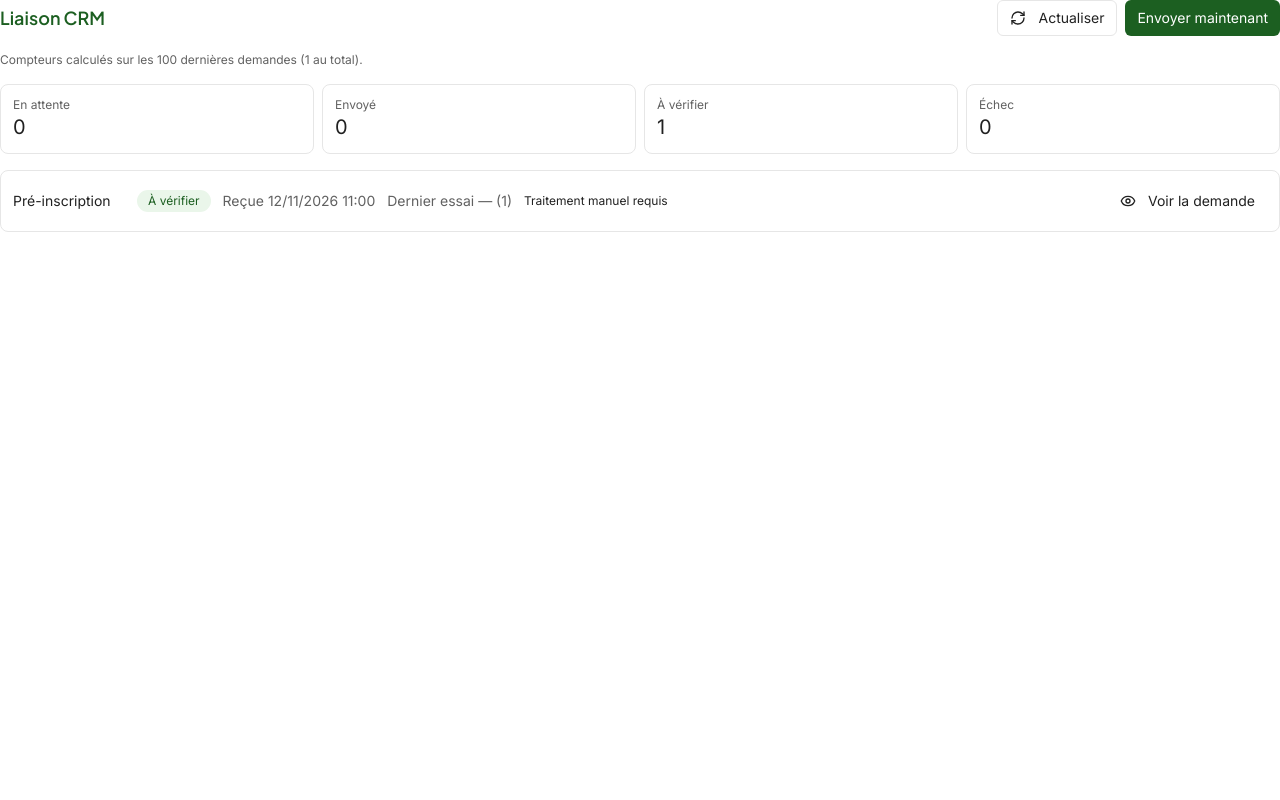
CrmOutboxManager › opens a read-only dialog with whitelisted source data and session, without sending or updating
The image size is (1280, 800).
Click the button "Voir la demande": point(1188, 201) [1108,183,1267,219]
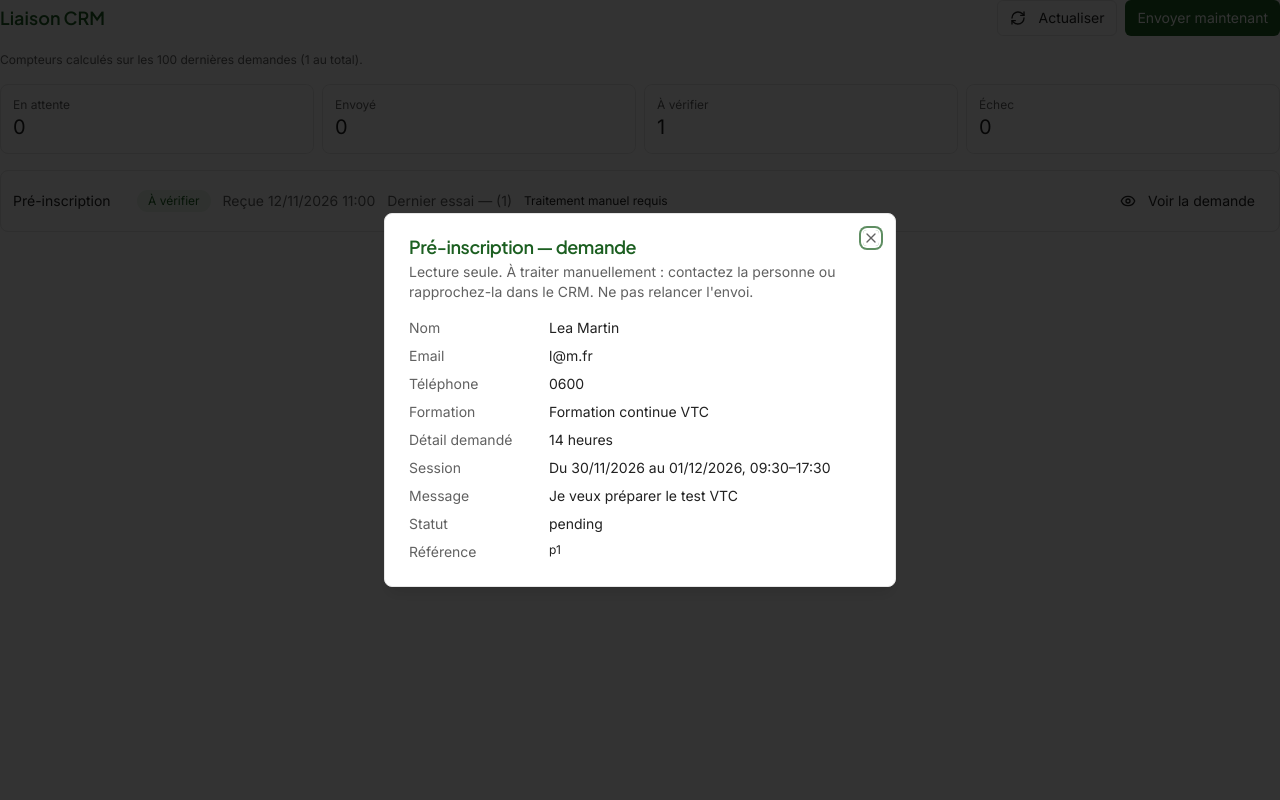
Now the text "Lea Martin" is shown, box [549,319,619,336]
Now the text "Je veux préparer le test VTC" is shown, box [549,487,738,504]
Now the text "Du 30/11/2026 au 01/12/2026, 09:30–17:30" is shown, box [549,458,871,478]
